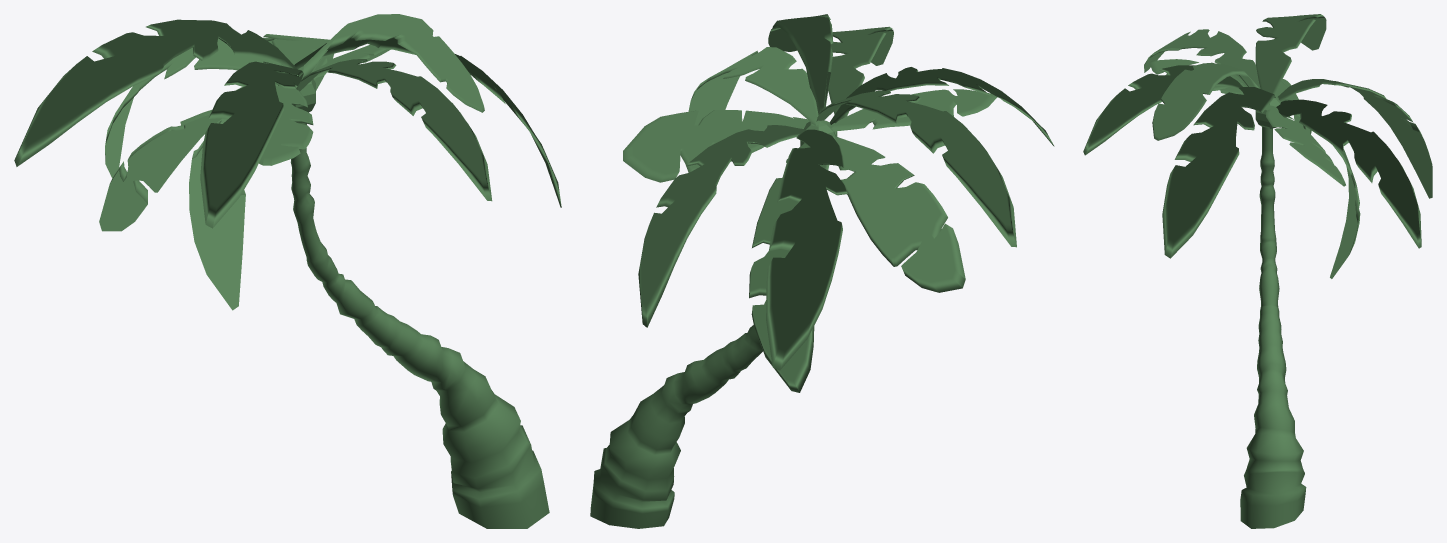
Rendered from fol_palmtree_01.fbx.
The picture shows the model from 3 angles, left to right: view 1: azimuth 30°, elevation 25°; view 2: azimuth 150°, elevation 25°; view 3: azimuth 270°, elevation 25°; orthographic projection. The views are drawn at different scales.
Parts seen in each view (by area): view 1: Pam_tree_02; view 2: Pam_tree_02; view 3: Pam_tree_02.
Part boxes in pixels (x1,y1,x2,y2): Pam_tree_02: [14, 14, 561, 528]; Pam_tree_02: [590, 14, 1054, 528]; Pam_tree_02: [1083, 14, 1432, 528].
Size of the model in its own units: 26.52 by 28.41 by 22.66.
